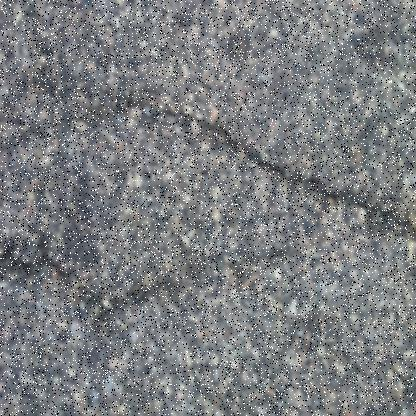Cracks: (117, 90, 416, 242)
